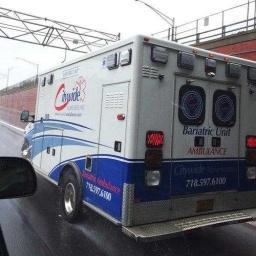ambulance: (23, 35, 255, 240)
